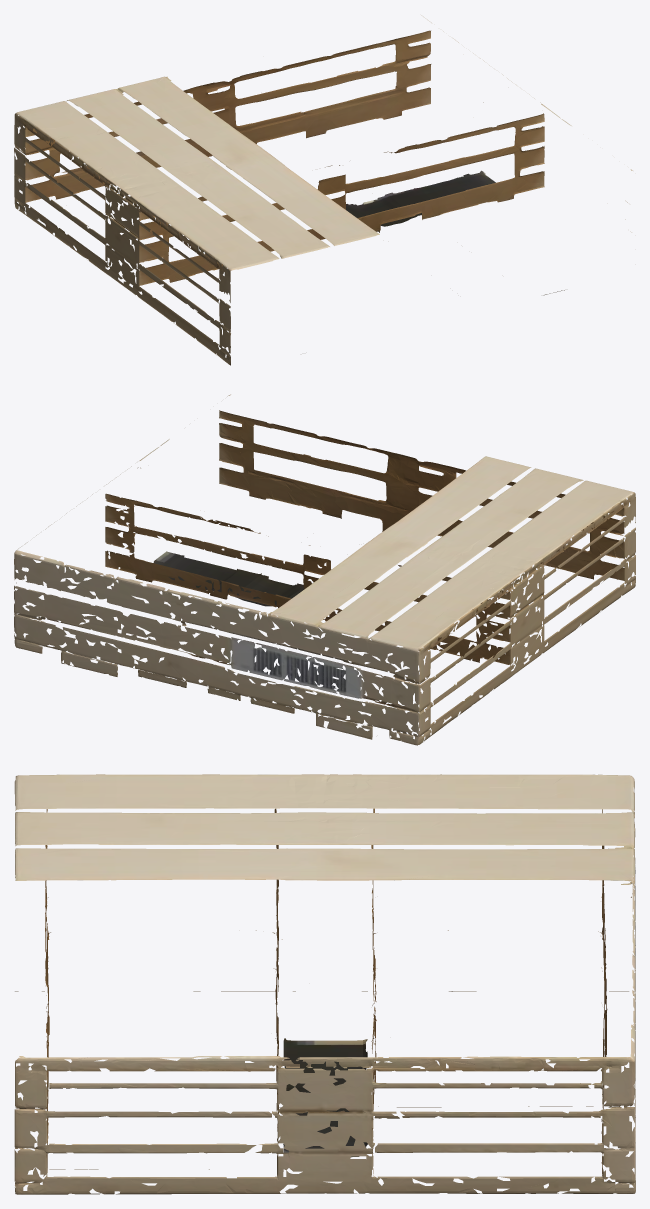
3 renders of one model, top to bottom at view 1: azimuth 30°, elevation 25°; view 2: azimuth 150°, elevation 25°; view 3: azimuth 270°, elevation 25°, orthographic. The views are drawn at different scales.
Parts seen in each view (by area): view 1: geometry_0; view 2: geometry_0; view 3: geometry_0.
Boxes of the visible parts, left/top/right/bottom form: geometry_0: left=14, top=15, right=632, bottom=365; geometry_0: left=14, top=394, right=635, bottom=745; geometry_0: left=14, top=774, right=635, bottom=1194.
Size of the model in its own units: 1 by 0.2418 by 0.9254.
Materials: 1 (1 with a texture image).
